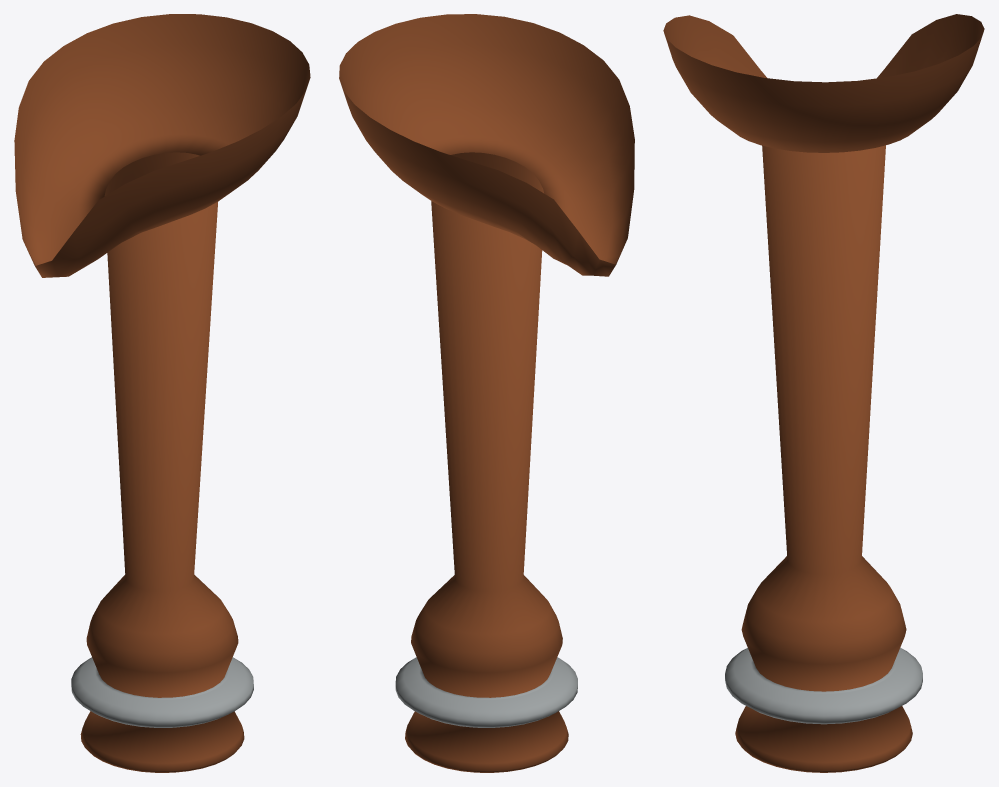
File: CinemaStuhl.fbx
3 renders of one model, left to right at view 1: azimuth 30°, elevation 25°; view 2: azimuth 150°, elevation 25°; view 3: azimuth 270°, elevation 25°, orthographic. The views are drawn at different scales.
Parts seen in each view (by area): view 1: Stuhl; view 2: Stuhl; view 3: Stuhl.
Part boxes in pixels (<box>): Stuhl: <box>14,14,310,772</box>; Stuhl: <box>339,14,634,772</box>; Stuhl: <box>663,14,984,772</box>.
Size of the model in its own units: 79.95 by 198 by 79.95.
